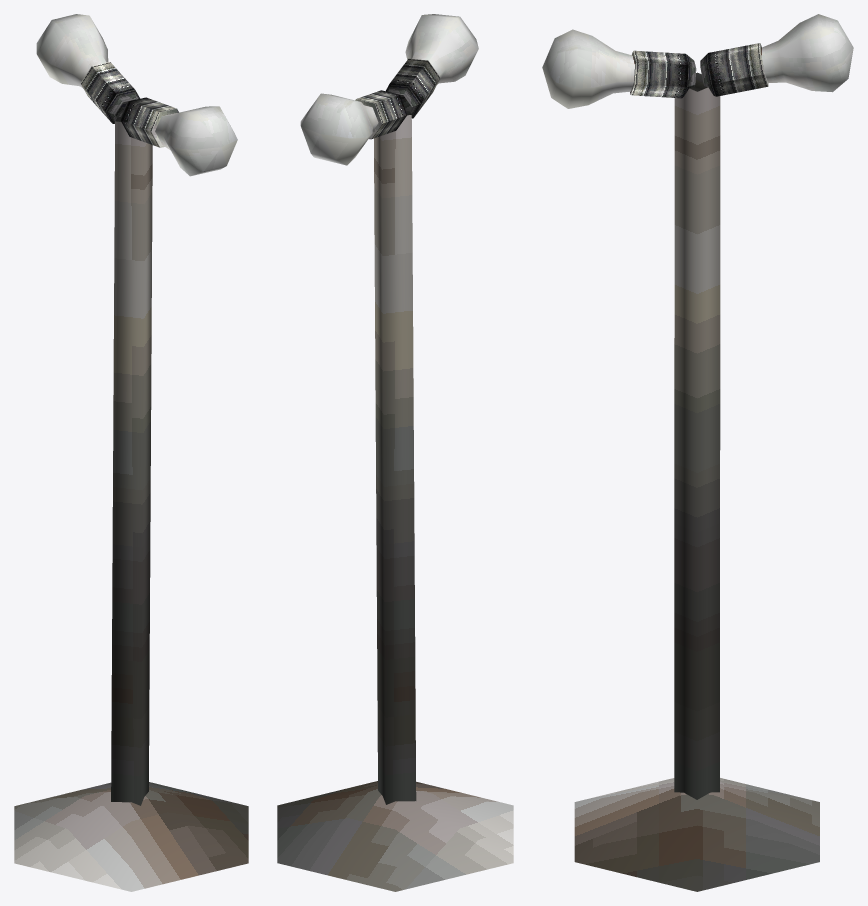
File: hang_retail_slum.fbx
The picture shows the model from 3 angles, left to right: view 1: azimuth 30°, elevation 25°; view 2: azimuth 150°, elevation 25°; view 3: azimuth 270°, elevation 25°; orthographic projection. The views are drawn at different scales.
Parts seen in each view (by area): view 1: mesh_0, mesh_1, mesh_2; view 2: mesh_0, mesh_1, mesh_2; view 3: mesh_0, mesh_1, mesh_2.
Boxes of the visible parts, x1,y1,x2,y2 form: mesh_0: (14,117,248,891); mesh_1: (36,14,237,176); mesh_2: (80,61,178,147); mesh_0: (277,110,513,891); mesh_1: (300,14,478,165); mesh_2: (355,58,440,139); mesh_0: (574,72,819,891); mesh_1: (542,14,853,108); mesh_2: (630,43,768,98).
Bounding box in the file's own units: 31.73 × 99.97 × 34.86.
3 materials, 3 textured.
